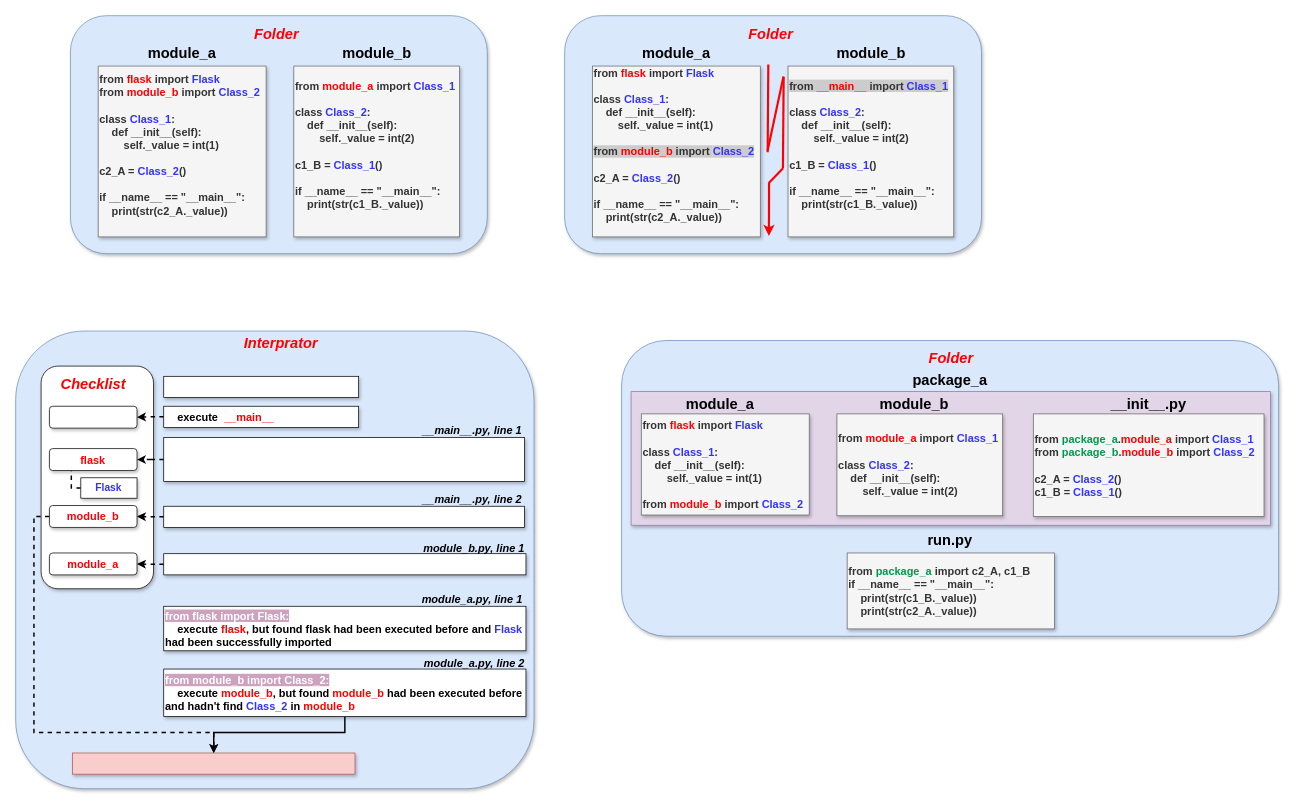
Some shapes in this 1296 by 807 pixel diagram are drawn without their labels. Here are the shapes that lost their labels. From the top down, the centre of each, then its label:
(x=261, y=388): name module_a as __main__
(x=93, y=418): __main__
(x=344, y=460): from flask import Flask: execute flask , and successfully import Flask
(x=344, y=518): from module_b import Class_2: execute module_b
(x=345, y=565): from module_a import Class_1: execute module_a
(x=214, y=764): Err: Can't find Class_2 in module_b
